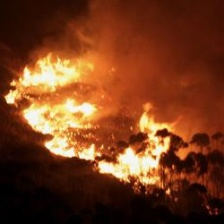fire: (5, 60, 164, 185)
